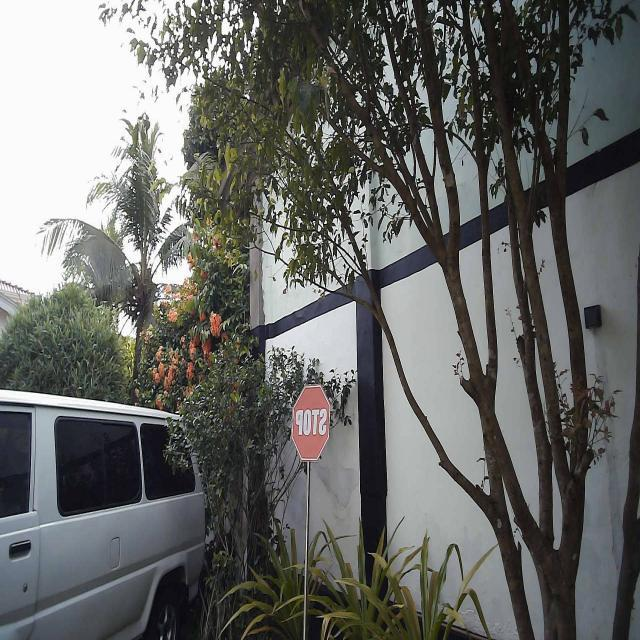stop: (290, 382, 332, 462)
